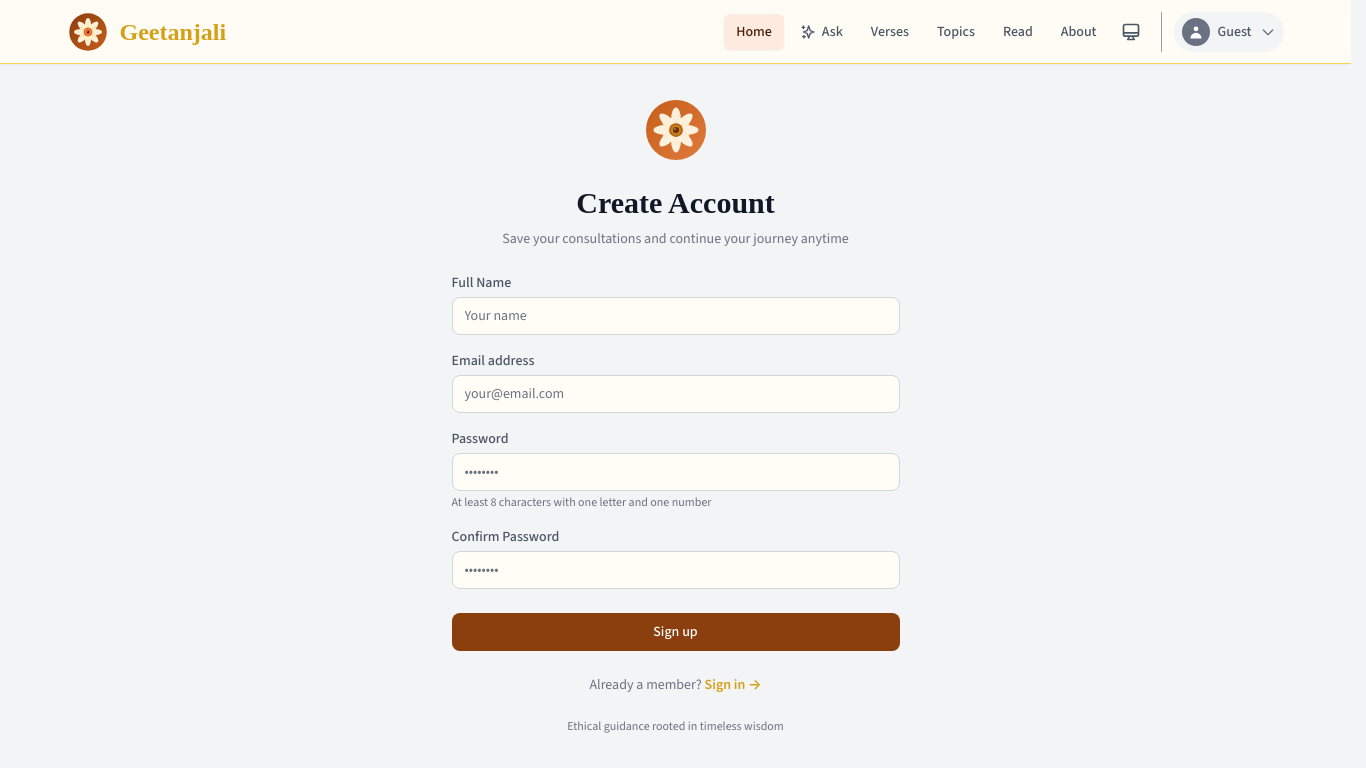
it: Signup Password Validation › should reject passwords without letters
The image size is (1366, 768).
Type "John Doe" into the field labelled "Full Name" at (676, 316), box [452,296,900,334]
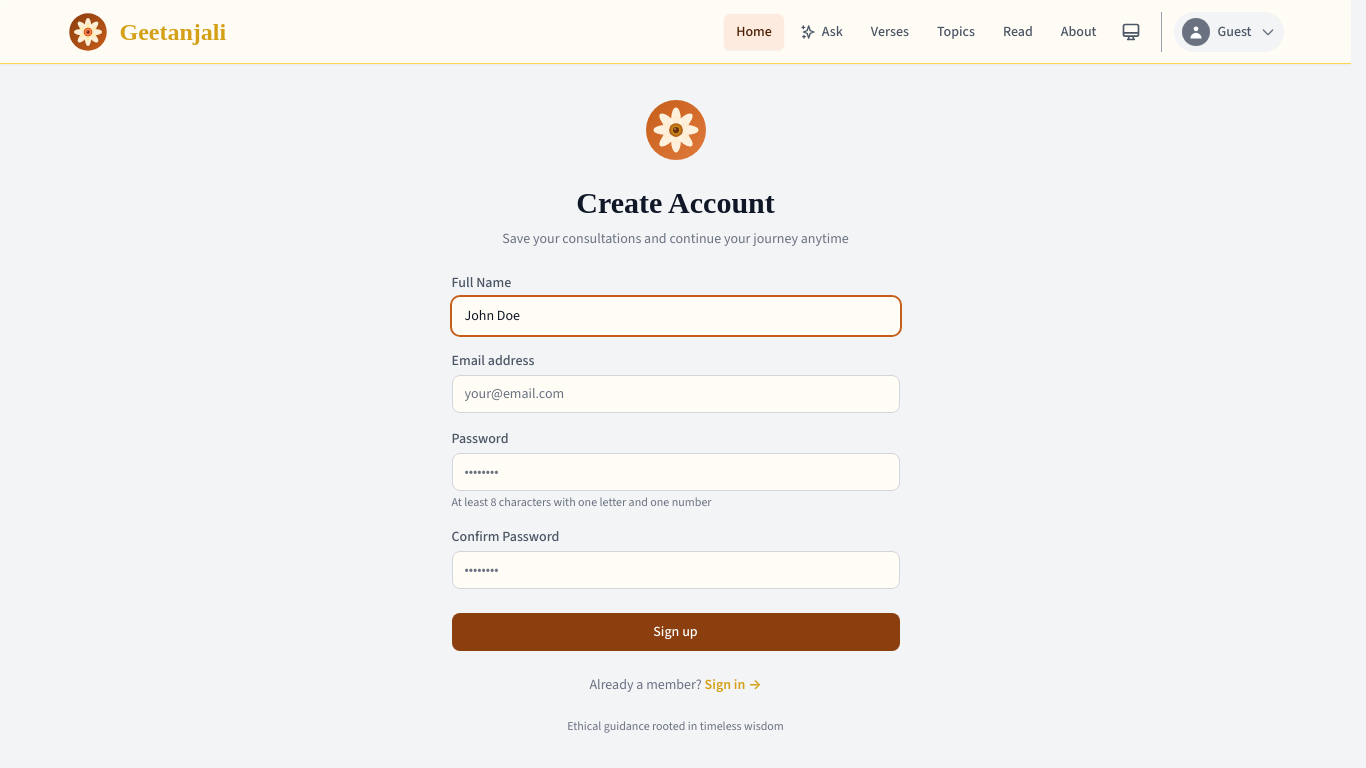
Type "john@example.com" into the field labelled "Email address" at (676, 394), box [452,374,900,412]
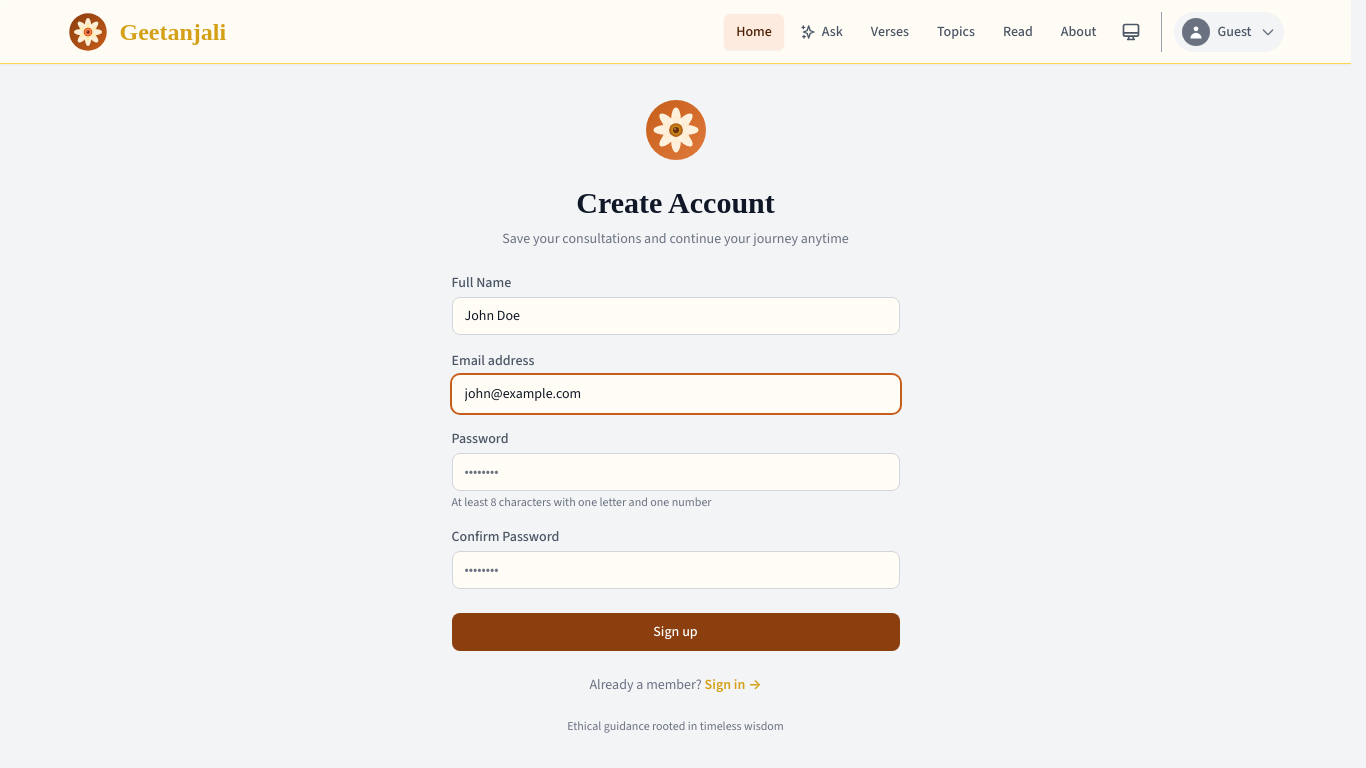
Type "12345678" into the password field labelled "Password" at (676, 472), box [452,452,900,490]
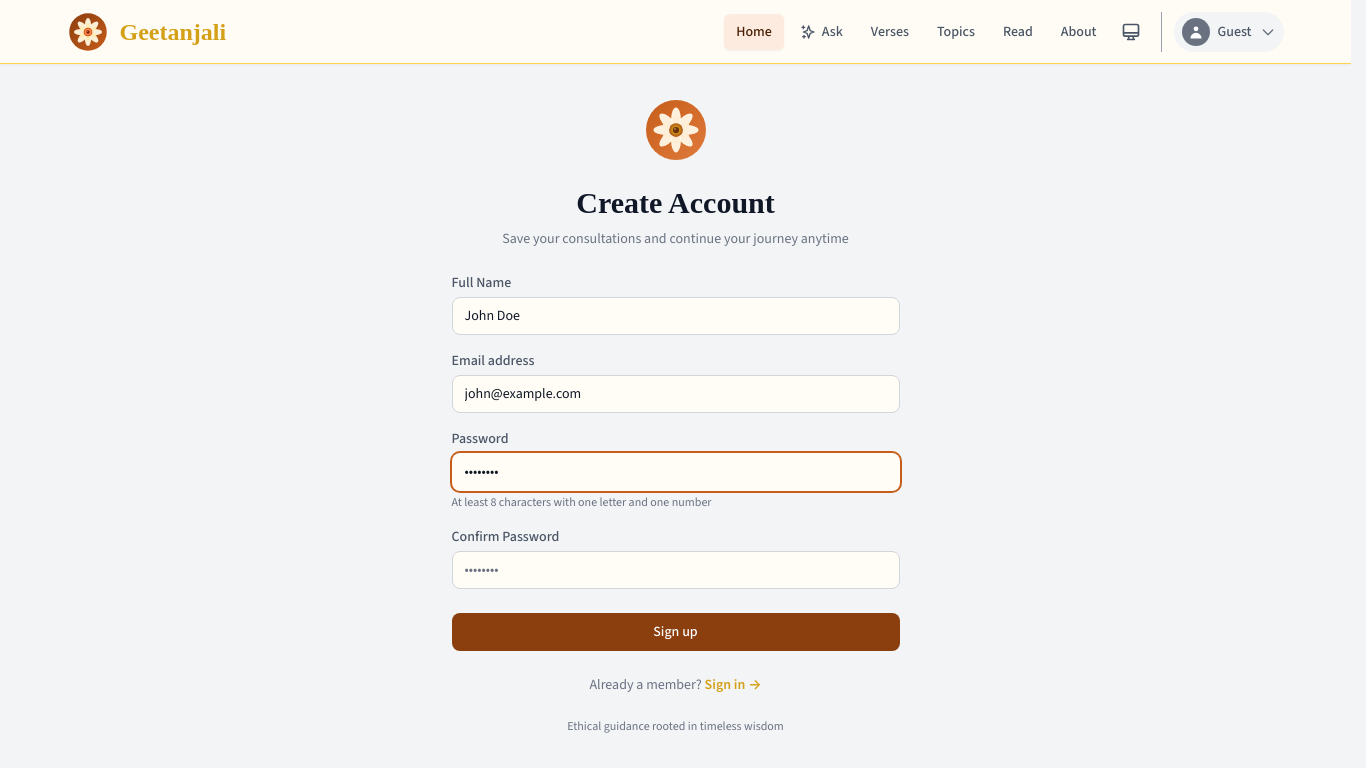
Type "12345678" into the password field labelled "Confirm Password" at (676, 570), box [452,550,900,588]
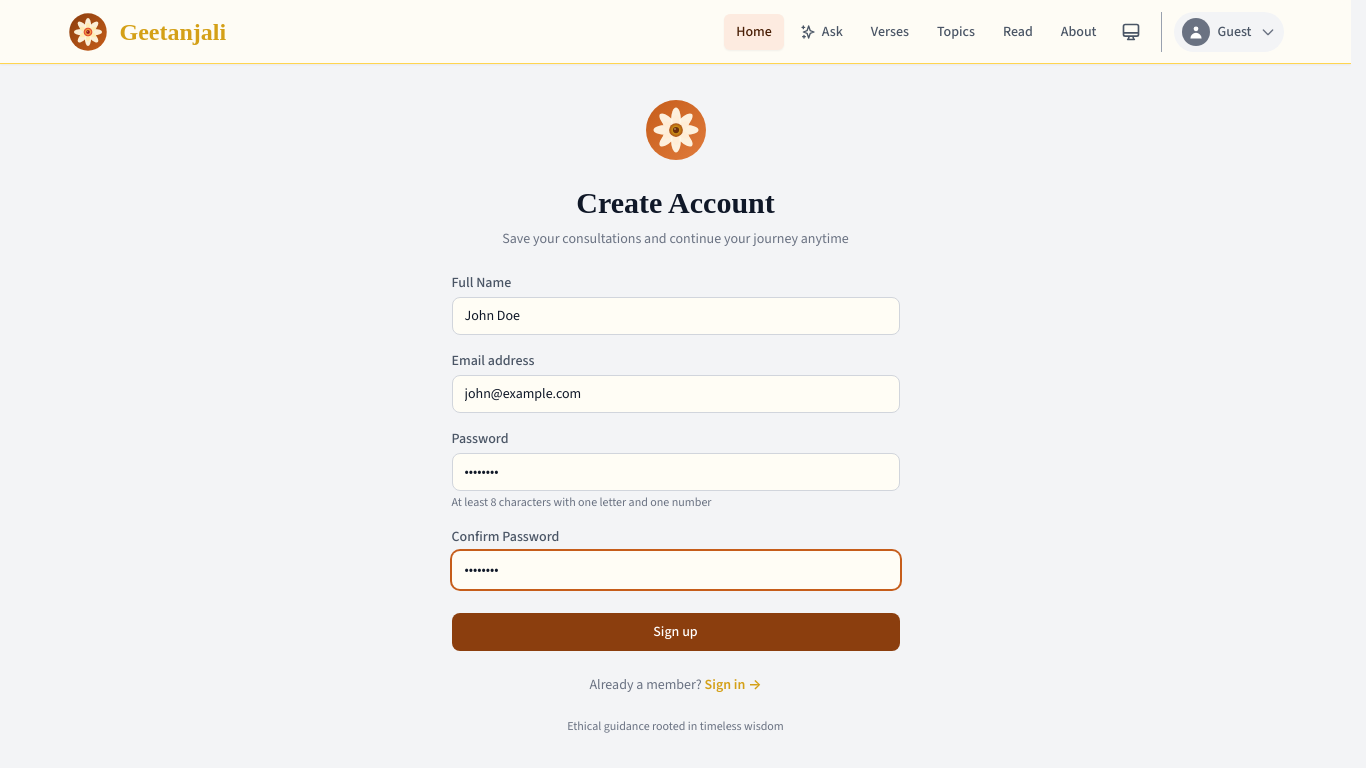
Click the button "Sign up" at (676, 632), box [452,612,900,650]
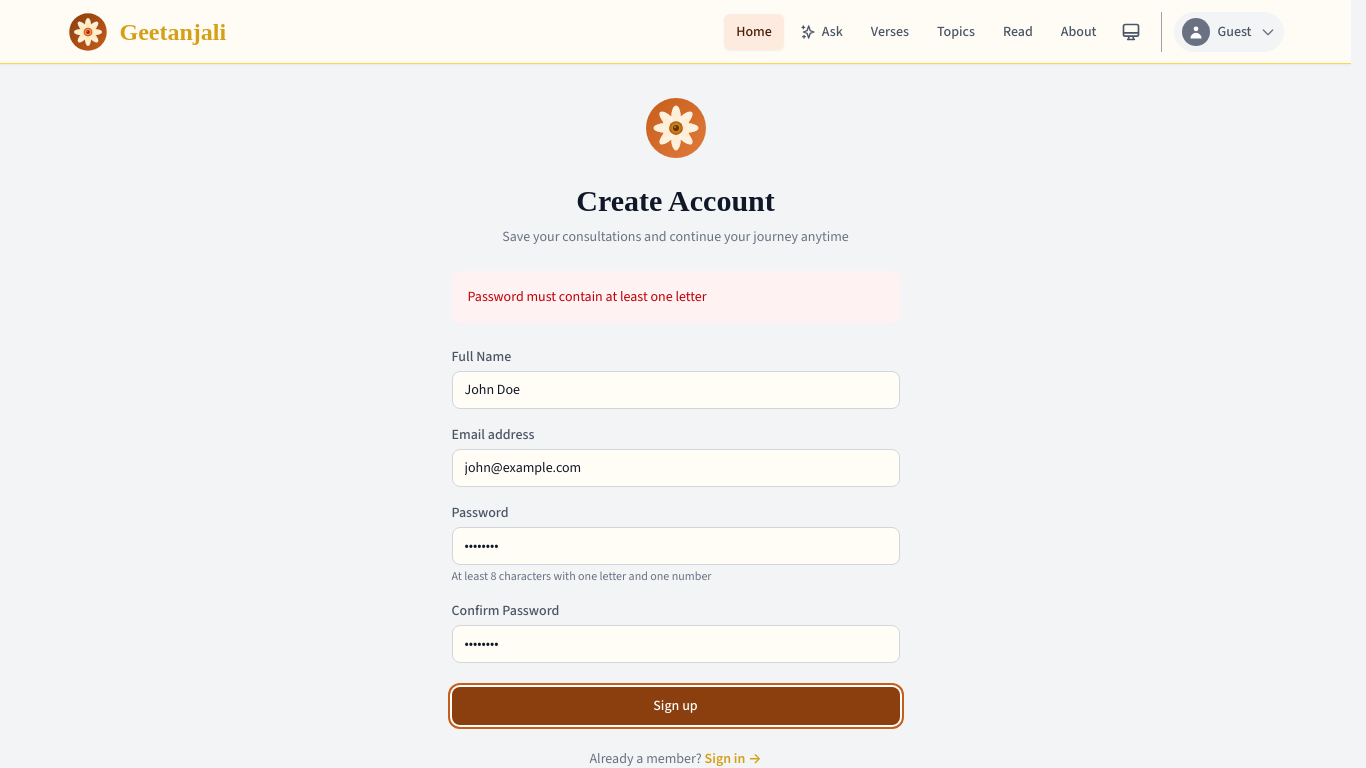
Result: the text "Password must contain at least one letter" is shown at [468,287,707,307]
